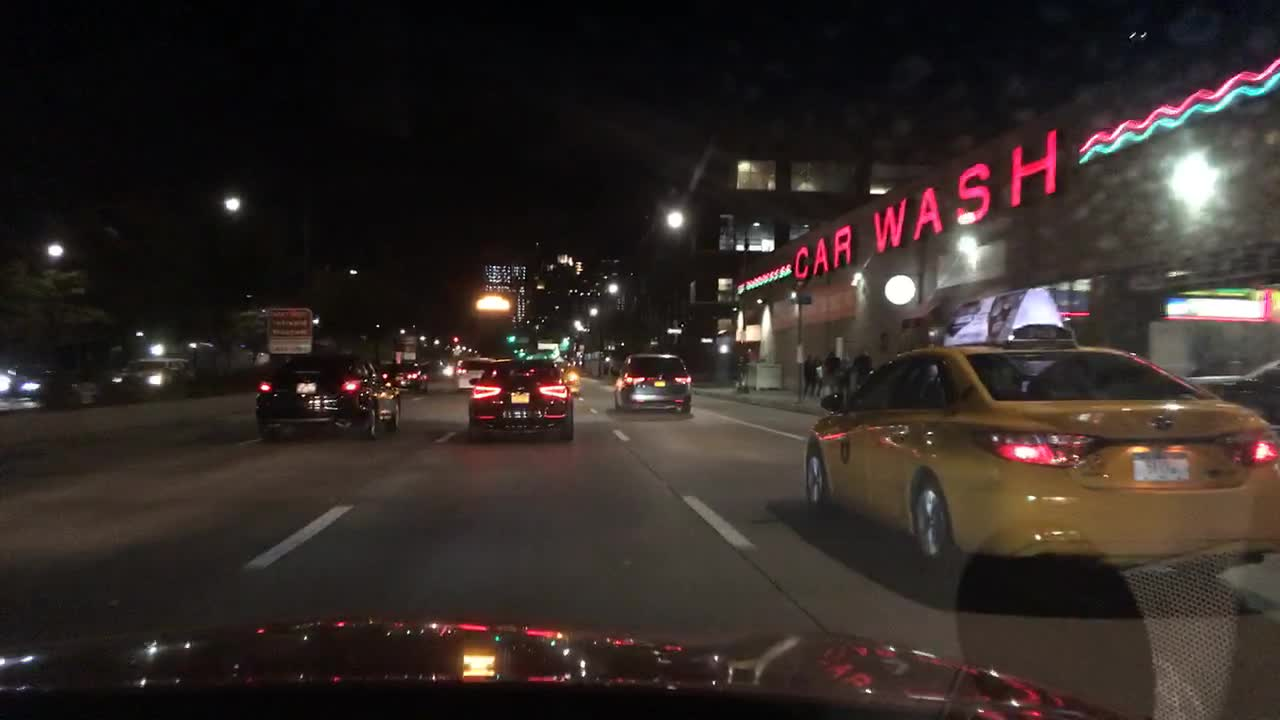car: (805, 288, 1277, 568), (255, 347, 403, 441), (465, 356, 579, 444), (1183, 357, 1277, 420), (615, 350, 692, 413), (113, 353, 197, 397), (3, 364, 85, 407), (382, 359, 429, 395), (454, 354, 493, 392)
person: (847, 347, 879, 400), (825, 352, 839, 399), (801, 357, 816, 398), (814, 358, 825, 397)
traffic light: (559, 339, 567, 354), (506, 334, 515, 344)
traffic sign: (264, 309, 311, 352)
